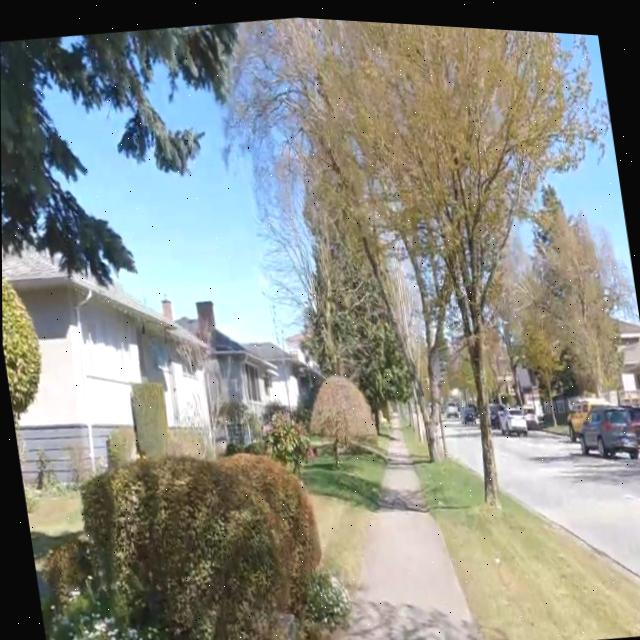Automobile: (579, 398, 637, 450), (500, 400, 526, 428), (623, 398, 640, 439), (567, 404, 585, 434), (462, 398, 477, 418), (446, 396, 457, 412)
Road: (493, 423, 640, 568), (445, 416, 480, 468)
Sidewalk: (333, 436, 482, 640)
